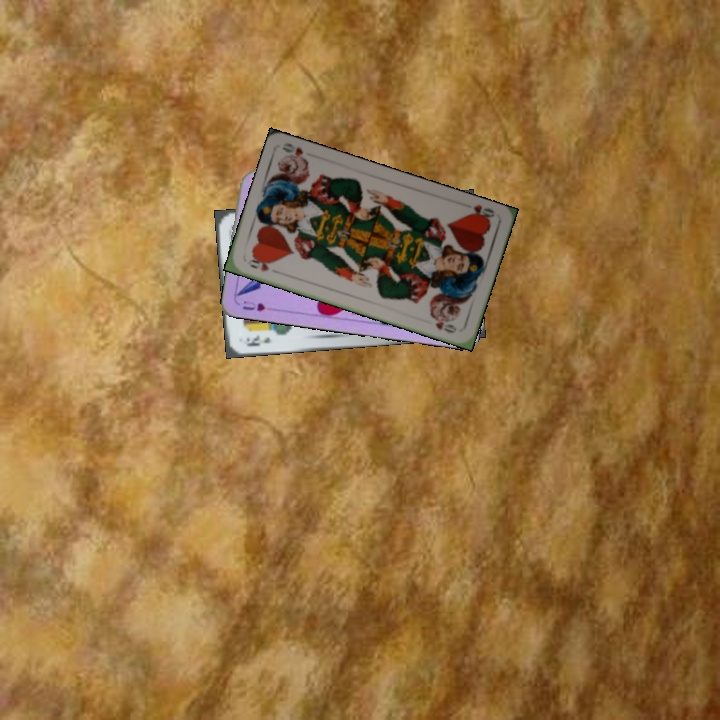EK: (243, 331, 273, 349)
HO: (464, 200, 497, 224), (246, 254, 273, 274)
HU: (238, 297, 268, 314)
